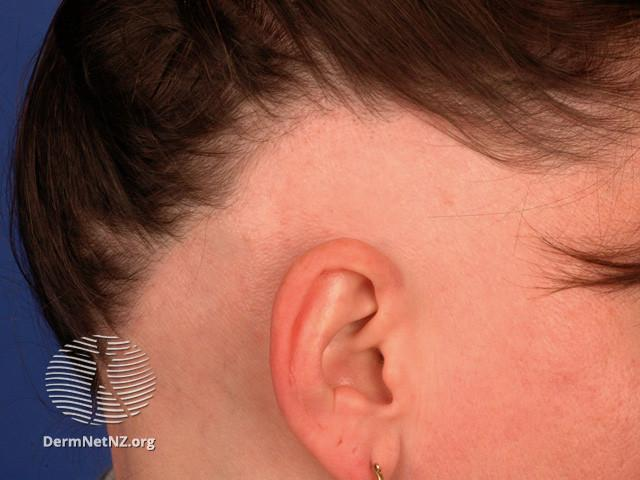Alopecia Areata: (126, 88, 529, 325)
